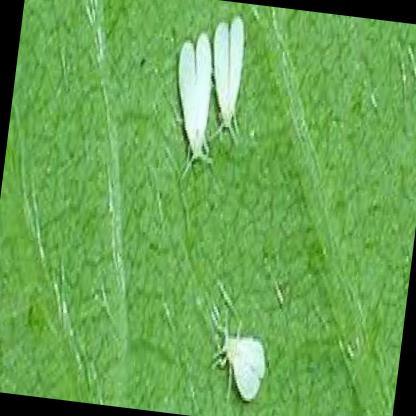whitefly: (176, 31, 211, 158), (213, 15, 243, 134), (222, 333, 263, 402)
